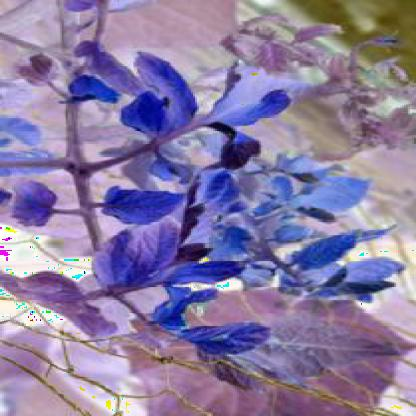tomato leaf yellow virus: (139, 300, 410, 415), (16, 268, 123, 360), (90, 205, 183, 295), (117, 90, 197, 147)
